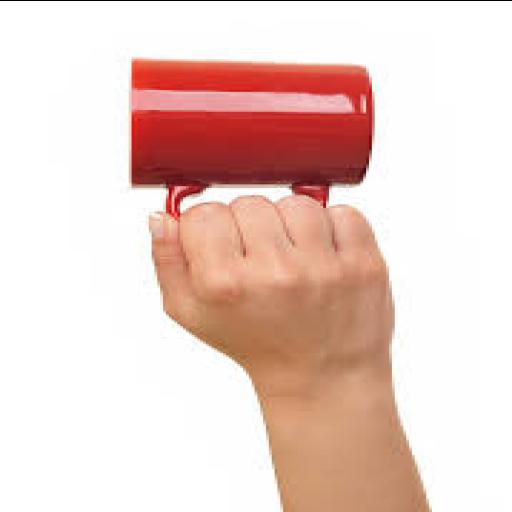red mug: (132, 62, 372, 216)
